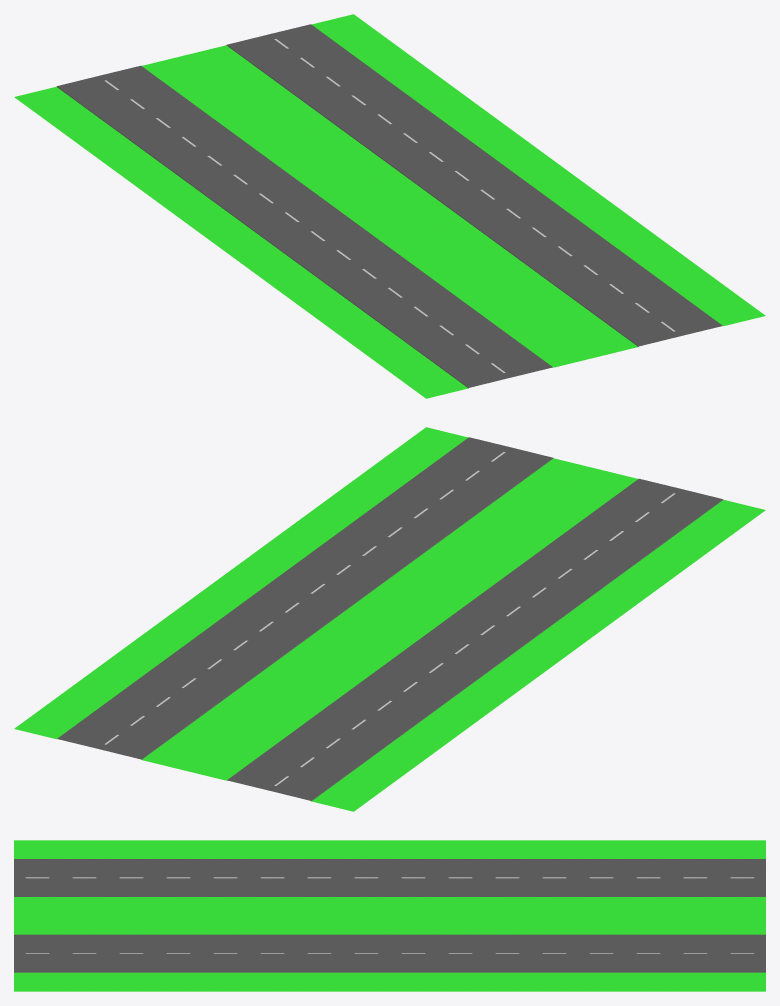
Rendered from main.gltf.
3 views of the same model, one above another, from view 1: azimuth 30°, elevation 25°; view 2: azimuth 150°, elevation 25°; view 3: azimuth 270°, elevation 25° (orthographic). The views are drawn at different scales.
Parts seen in each view (by area): view 1: Plane002-col, Plane001-col, Plane004-col, Plane003-col; view 2: Plane001-col, Plane002-col, Plane003-col, Plane004-col; view 3: Plane001-col, Plane002-col, Plane003-col, Plane004-col.
Part boxes in pixels (bbox=[...]): Plane002-col: bbox=[220, 206, 595, 398]; Plane001-col: bbox=[14, 55, 389, 247]; Plane004-col: bbox=[390, 165, 765, 357]; Plane003-col: bbox=[184, 14, 559, 206]; Plane001-col: bbox=[184, 619, 559, 811]; Plane002-col: bbox=[390, 468, 765, 660]; Plane003-col: bbox=[14, 578, 389, 770]; Plane004-col: bbox=[220, 427, 595, 619]; Plane001-col: bbox=[390, 840, 765, 915]; Plane002-col: bbox=[14, 840, 389, 915]; Plane003-col: bbox=[390, 916, 765, 991]; Plane004-col: bbox=[14, 916, 389, 991].
Bounding box in the file's own units: 14.17 × 0.0203 × 29.78.
